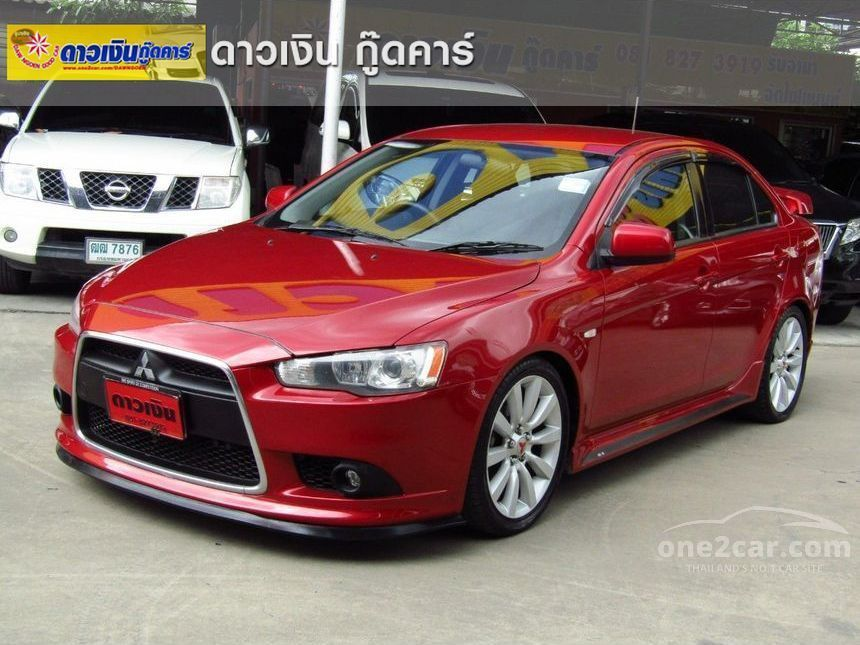sedan: (48, 121, 826, 549)
